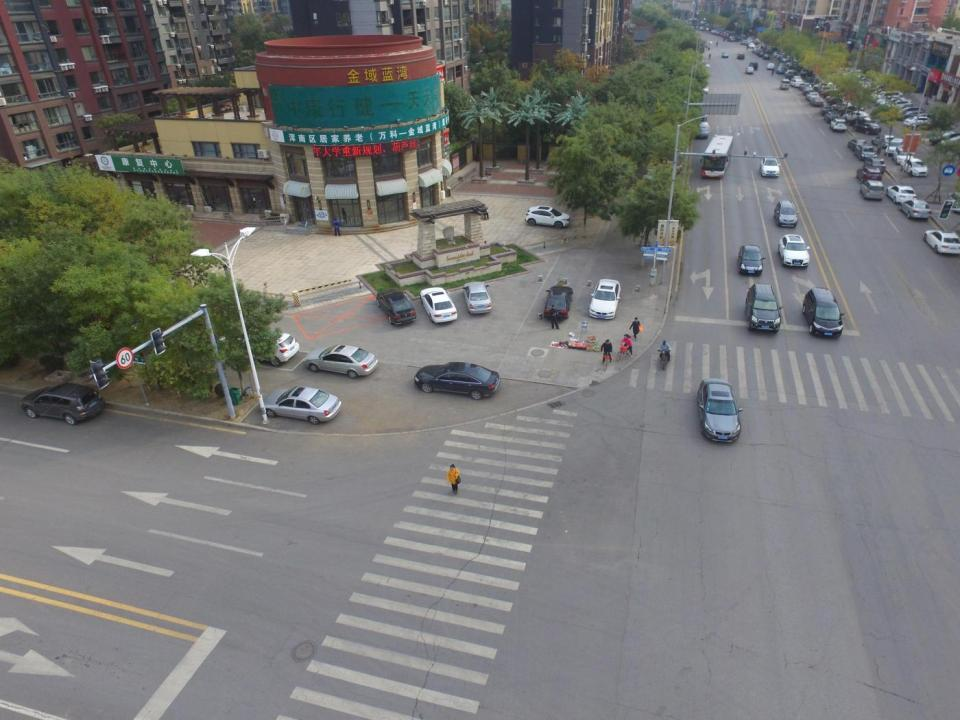bus: (700, 135, 734, 178)
car: (19, 381, 104, 425), (411, 362, 500, 401), (697, 378, 740, 446), (264, 388, 344, 424), (235, 328, 300, 368), (305, 344, 380, 378), (802, 286, 844, 339), (745, 283, 780, 334), (376, 288, 416, 326), (588, 279, 624, 320), (421, 288, 456, 326), (777, 233, 810, 268), (523, 206, 571, 227), (464, 282, 492, 317), (545, 285, 573, 320), (923, 229, 960, 254), (739, 245, 764, 275), (901, 200, 932, 222), (885, 185, 916, 206), (772, 202, 798, 226), (900, 158, 927, 178), (859, 181, 885, 201), (930, 131, 960, 148), (761, 156, 780, 180), (856, 166, 880, 184), (894, 146, 914, 166), (937, 136, 960, 153), (843, 110, 869, 125), (854, 123, 882, 136), (886, 138, 905, 157), (865, 156, 886, 173), (855, 146, 877, 162), (873, 134, 895, 150), (850, 116, 875, 130), (904, 117, 934, 128), (695, 121, 709, 140), (848, 139, 867, 152), (830, 118, 845, 132), (824, 112, 838, 123), (809, 96, 824, 106), (800, 81, 813, 92), (806, 91, 819, 102), (822, 103, 833, 116), (697, 81, 708, 94), (802, 86, 814, 96), (790, 78, 802, 87), (736, 52, 744, 60), (766, 63, 775, 70), (722, 52, 728, 58)
van: (780, 79, 789, 90), (749, 61, 758, 70)
